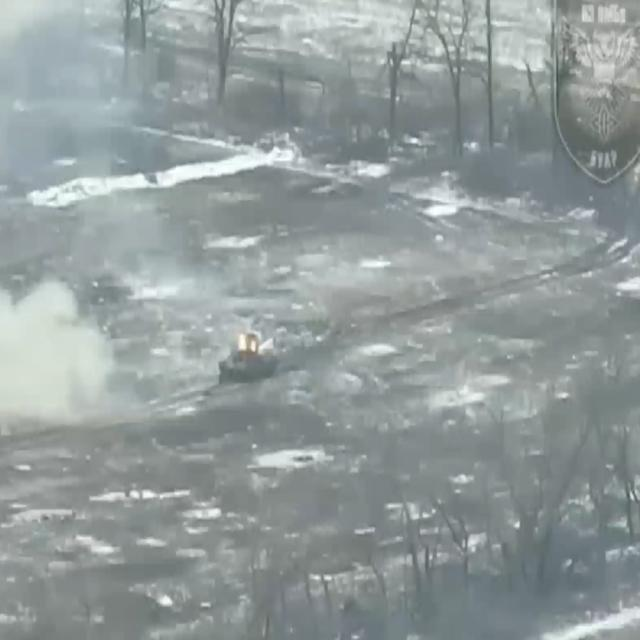vehicle: (217, 326, 279, 390)
